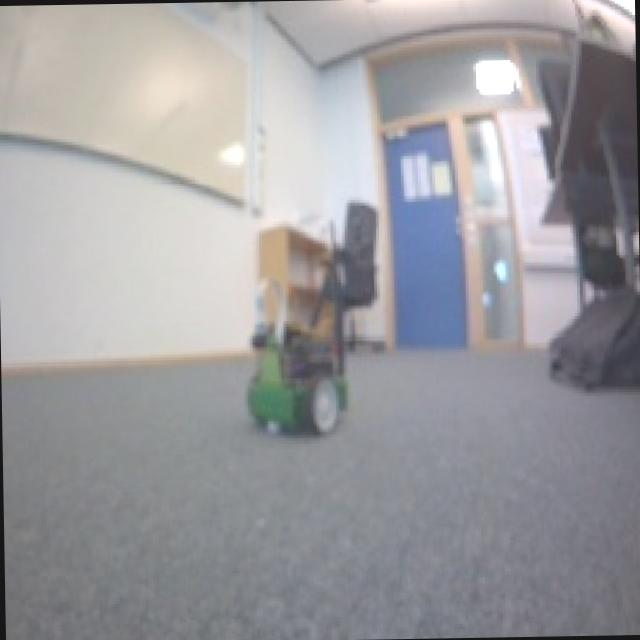robot: (238, 322, 350, 438)
